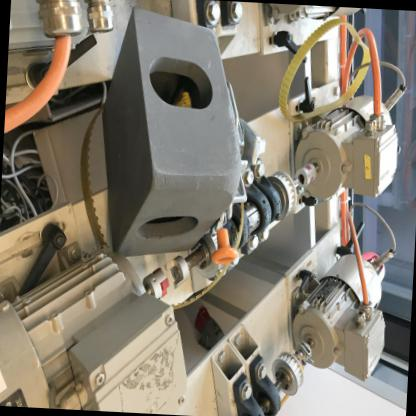CornerCasting: (95, 10, 243, 272)
Twistlock: (211, 76, 272, 280)
